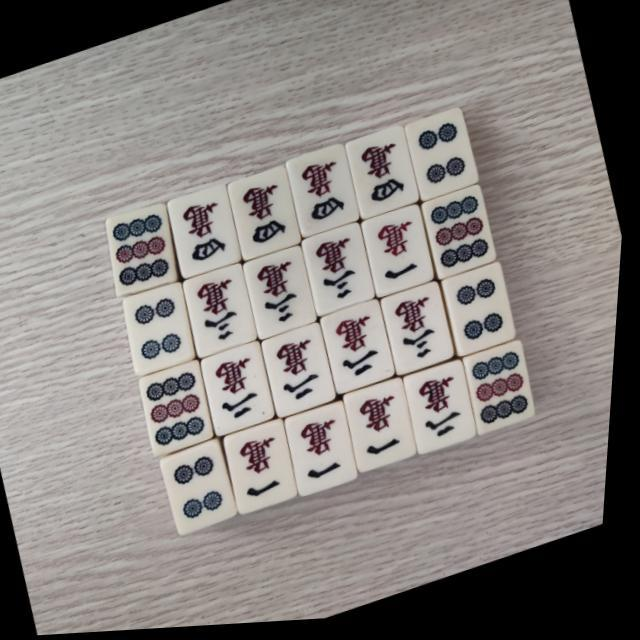sc1: (290, 410, 362, 496), (230, 428, 300, 512), (351, 388, 418, 472), (366, 213, 434, 294)
sc2: (325, 308, 396, 394), (266, 331, 336, 416), (411, 369, 478, 454), (207, 351, 275, 434)
sc3: (186, 270, 260, 358), (386, 290, 458, 376), (248, 253, 318, 337), (306, 232, 375, 314)
sc4: (348, 134, 418, 218), (290, 150, 358, 236), (172, 192, 240, 276), (232, 175, 298, 257)
sd4: (406, 114, 480, 201), (448, 272, 518, 357), (169, 449, 239, 532), (128, 289, 197, 372)
sd9: (141, 366, 219, 454), (466, 348, 542, 438), (104, 206, 180, 294), (424, 194, 498, 279)
